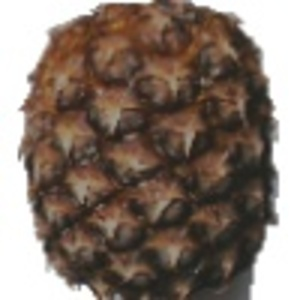abacaxi: (16, 3, 284, 296)
